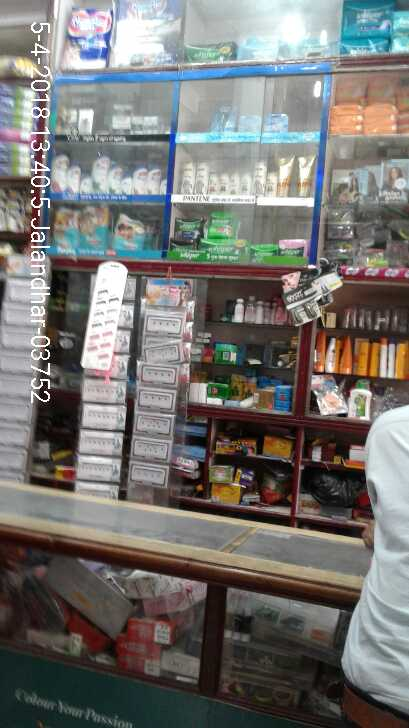venus: (213, 105, 236, 132), (239, 115, 261, 132), (266, 115, 288, 131)
